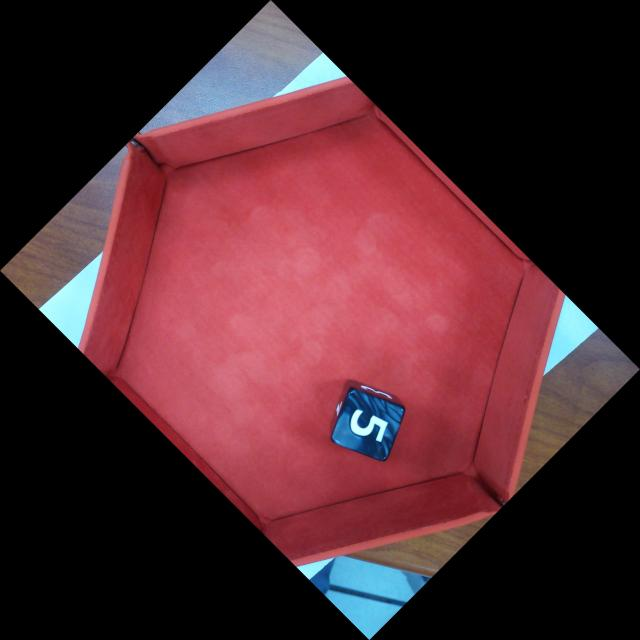dice: (328, 386, 407, 464)
